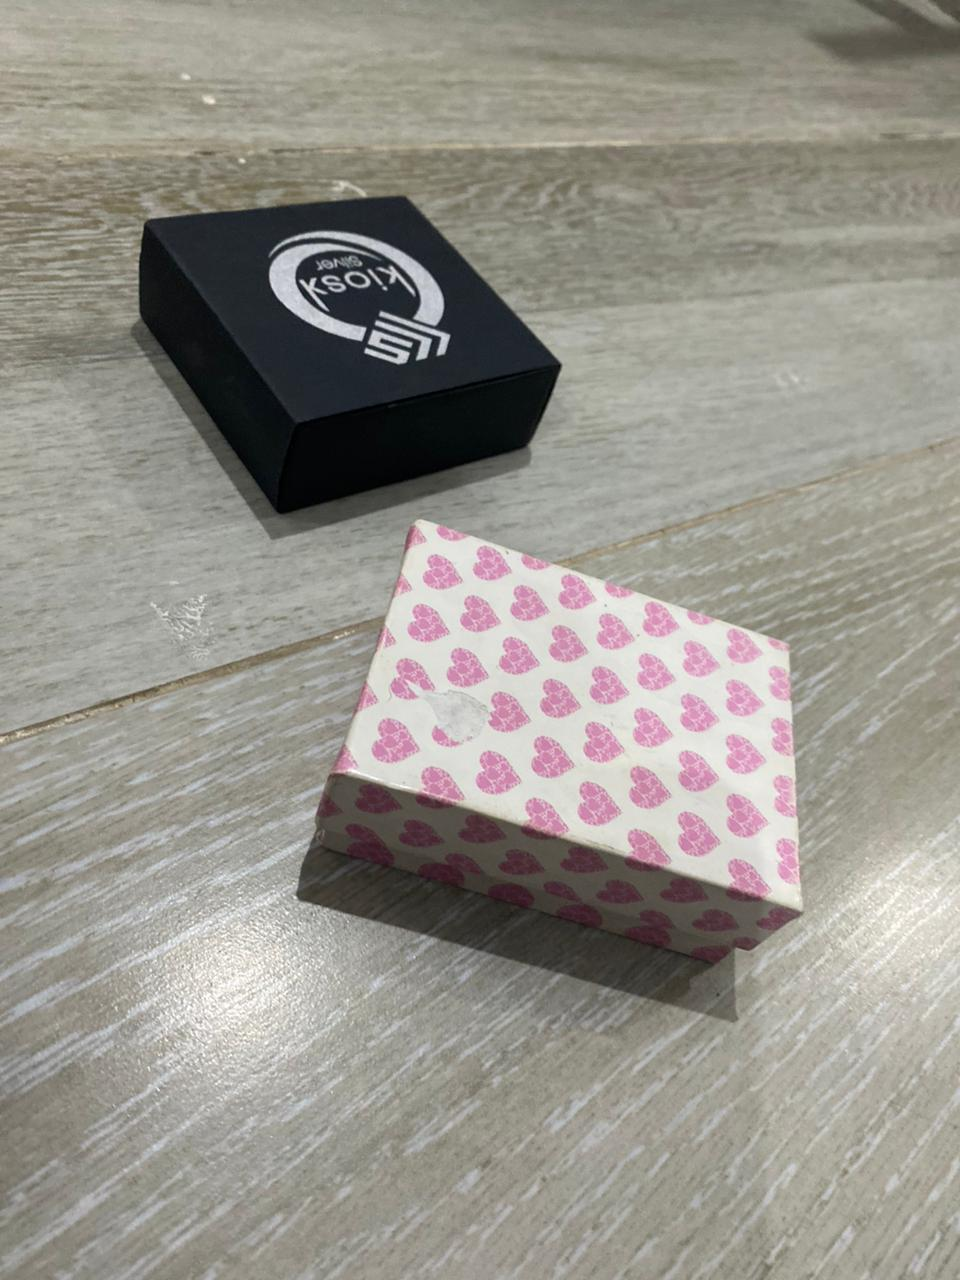Pink Box: (304, 520, 814, 989)
Red Box: (138, 193, 560, 522)
